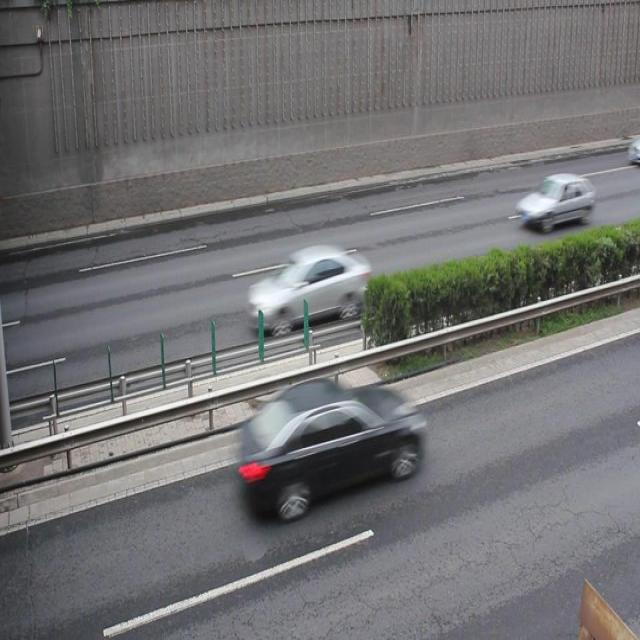car: (238, 375, 420, 513), (247, 240, 370, 334), (515, 171, 593, 231), (626, 133, 640, 168)
